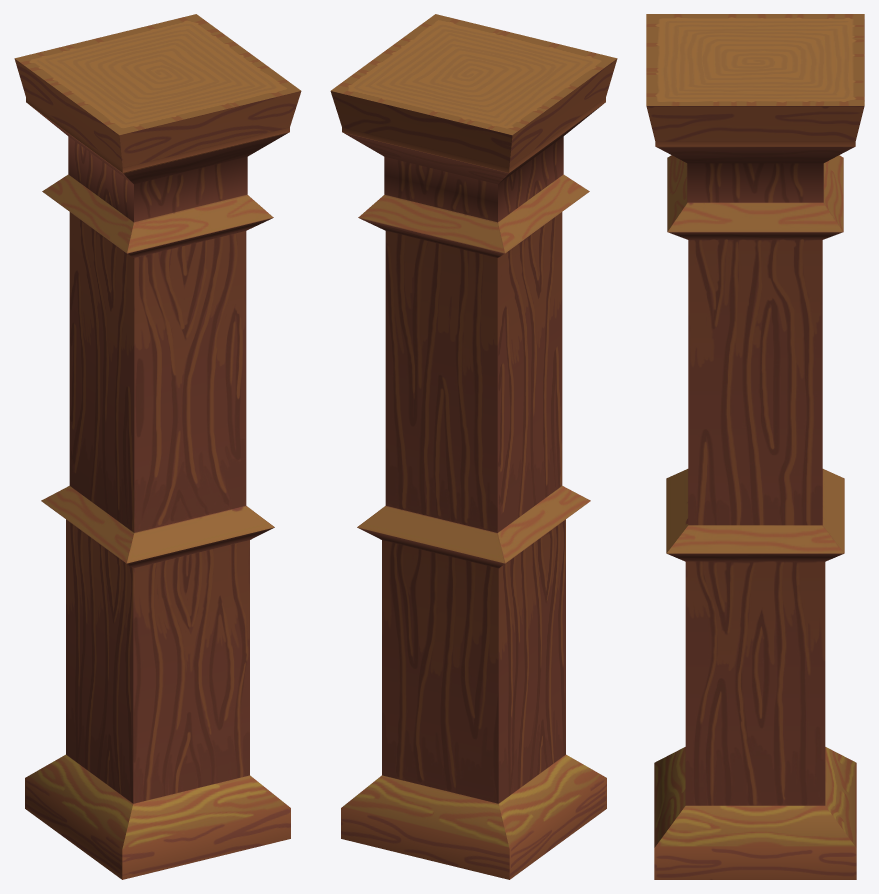
File: wooden_pillar.glb
3 views of the same model, side by side, from view 1: azimuth 30°, elevation 25°; view 2: azimuth 150°, elevation 25°; view 3: azimuth 270°, elevation 25° (orthographic). The views are drawn at different scales.
Parts seen in each view (by area): view 1: pCube1; view 2: pCube1; view 3: pCube1.
Part boxes in pixels (x1,y1,x2,y2): pCube1: (14, 14, 301, 879); pCube1: (330, 14, 617, 879); pCube1: (646, 14, 864, 879).
Bounding box in the file's own units: 74.72 × 294 × 74.72.
Materials: 1 (1 with a texture image).
